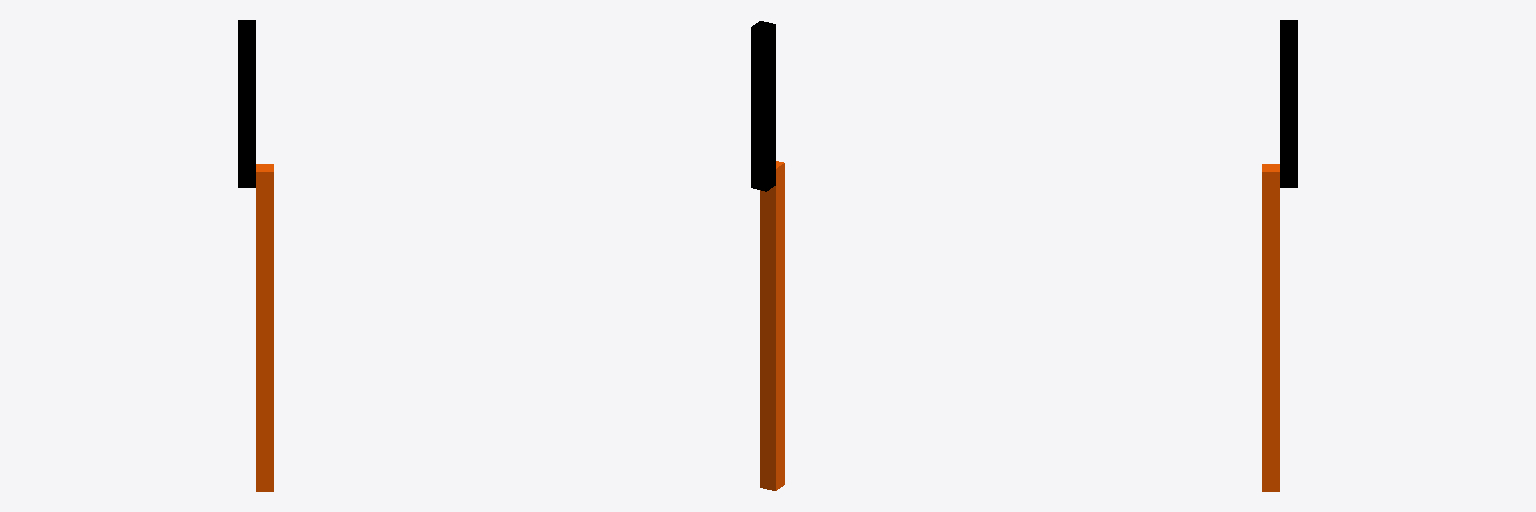
URDF robot description (pendulum):
<?xml version="1.0" ?>
<!-- =================================================================================== -->
<!-- |    This document was autogenerated by xacro from rrbot.xacro                    | -->
<!-- |    EDITING THIS FILE BY HAND IS NOT RECOMMENDED                                 | -->
<!-- =================================================================================== -->
<!-- Revolute-Revolute Manipulator -->
<robot name="pendulum" xmlns:xacro="http://www.ros.org/wiki/xacro">
  <!-- Space btw top of beam and the each joint -->
  <!-- ros_control plugin -->
  <gazebo>
    <plugin filename="libgazebo_ros_control.so" name="gazebo_ros_control">
      <robotNamespace>/rrbot</robotNamespace>
      <robotSimType>gazebo_ros_control/DefaultRobotHWSim</robotSimType>
    </plugin>
  </gazebo>
  <!-- Link1 -->
  <gazebo reference="link1">
    <material>Gazebo/Orange</material>
  </gazebo>
  <!-- Link2 -->
  <gazebo reference="link2">
    <mu1>0.2</mu1>
    <mu2>0.2</mu2>
    <material>Gazebo/Black</material>
  </gazebo>

  <material name="black">
    <color rgba="0.0 0.0 0.0 1.0"/>
  </material>
  <material name="blue">
    <color rgba="0.0 0.0 0.8 1.0"/>
  </material>
  <material name="green">
    <color rgba="0.0 0.8 0.0 1.0"/>
  </material>
  <material name="grey">
    <color rgba="0.2 0.2 0.2 1.0"/>
  </material>
  <material name="orange">
    <color rgba="1.0 0.423529411765 0.0392156862745 1.0"/>
  </material>
  <material name="brown">
    <color rgba="0.870588235294 0.811764705882 0.764705882353 1.0"/>
  </material>
  <material name="red">
    <color rgba="0.8 0.0 0.0 1.0"/>
  </material>
  <material name="white">
    <color rgba="1.0 1.0 1.0 1.0"/>
  </material>

  <!-- Used for fixing robot to Gazebo 'base_link' -->
  <link name="world">
    <inertial>
      <origin rpy="0 0 0" xyz="0 0 0"/>
      <mass value="0"/>
      <inertia ixx="0.0" ixy="0.0" ixz="0.0" iyy="0.0" iyz="0.0" izz="0.0"/>
    </inertial>
  </link> <!-- if you put mass/inertia to 0 for the base_link in pybullet then the robot will not be affected by gravity (i.e. it will float). Just removing the base_link fixes the problem. -->
  <joint name="fixed" type="fixed">
    <parent link="world"/>
    <child link="link1"/>
  </joint>
  <!-- Base Link -->
  <link name="link1">
    <collision>
      <origin rpy="0 0 0" xyz="0 0 1.0"/>
      <geometry>
        <box size="0.1 0.1 2"/>
      </geometry>
    </collision>
    <visual>
      <origin rpy="0 0 0" xyz="0 0 1.0"/>
      <geometry>
        <box size="0.1 0.1 2"/>
      </geometry>
      <material name="orange"/>
    </visual>
    <inertial>
      <origin rpy="0 0 0" xyz="0 0 1.0"/>
      <mass value="1"/>
      <inertia ixx="0.334166666667" ixy="0.0" ixz="0.0" iyy="0.334166666667" iyz="0.0" izz="0.00166666666667"/>
    </inertial>
  </link>
  <joint name="joint1" type="continuous">
    <parent link="link1"/>
    <child link="link2"/>
    <origin rpy="0 0 0" xyz="0 0.1 1.95"/>
    <axis xyz="0 1 0"/>
    <dynamics damping="0.7"/>
  </joint>
  <!-- Middle Link -->
  <link name="link2">
    <collision>
      <origin rpy="0 0 0" xyz="0 0 0.45"/>
      <geometry>
        <box size="0.1 0.1 1"/>
      </geometry>
    </collision>
    <visual>
      <origin rpy="0 0 0" xyz="0 0 0.45"/>
      <geometry>
        <box size="0.1 0.1 1"/>
      </geometry>
      <material name="black"/>
    </visual>
    <inertial>
      <origin rpy="0 0 0" xyz="0 0 0.45"/>
      <mass value="1"/>
      <inertia ixx="0.0841666666667" ixy="0.0" ixz="0.0" iyy="0.0841666666667" iyz="0.0" izz="0.00166666666667"/>
    </inertial>
  </link>

  <transmission name="tran1">
    <type>transmission_interface/SimpleTransmission</type>
    <joint name="joint1">
      <hardwareInterface>hardware_interface/EffortJointInterface</hardwareInterface>
    </joint>
    <actuator name="motor1">
      <hardwareInterface>hardware_interface/EffortJointInterface</hardwareInterface>
      <mechanicalReduction>1</mechanicalReduction>
    </actuator>
  </transmission>
</robot>

--- Facts derived from the render (not from the file) ---
Views: 3 orthographic renders of the robot side by side, from view 1: azimuth 90°, elevation 25°; view 2: azimuth 150°, elevation 25°; view 3: azimuth 270°, elevation 25°.
Model pendulum with 3 links and 2 joints (1 continuous, 1 fixed), rooted at world, posed every joint at zero.
Visible links, largest first — view 1: link1, link2; view 2: link1, link2; view 3: link1, link2.
Link boxes in pixels (x1=…): link1: x1=256, y1=164, x2=273, y2=491; link2: x1=238, y1=20, x2=255, y2=187; link1: x1=760, y1=161, x2=784, y2=490; link2: x1=751, y1=21, x2=775, y2=191; link1: x1=1262, y1=164, x2=1279, y2=491; link2: x1=1280, y1=20, x2=1297, y2=187.
Size in the robot's own frame: 0.1 by 0.2 by 2.9 metres.
Geometry: primitives only (box / cylinder / sphere), no mesh files.